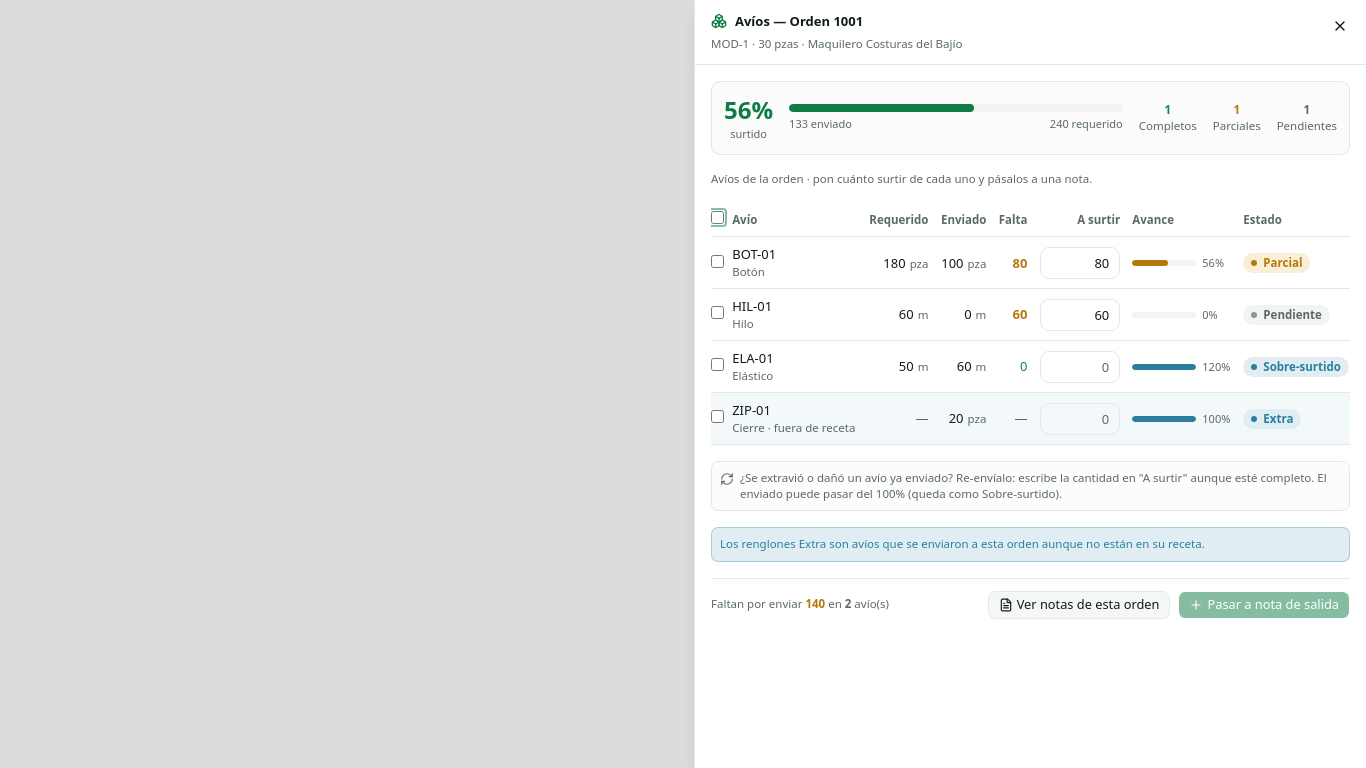
PanelHabilitacionOrden (R6, B13) › escribir una cantidad en "A surtir" auto-marca el renglón (re-envío)
The width and height of the screenshot is (1366, 768).
Check: the checkbox named "Surtir ELA-01" is not checked, box [711,358,724,371]
In the number field named "A surtir de ELA-01": (1080, 367) [1040,351,1120,383], type "10"
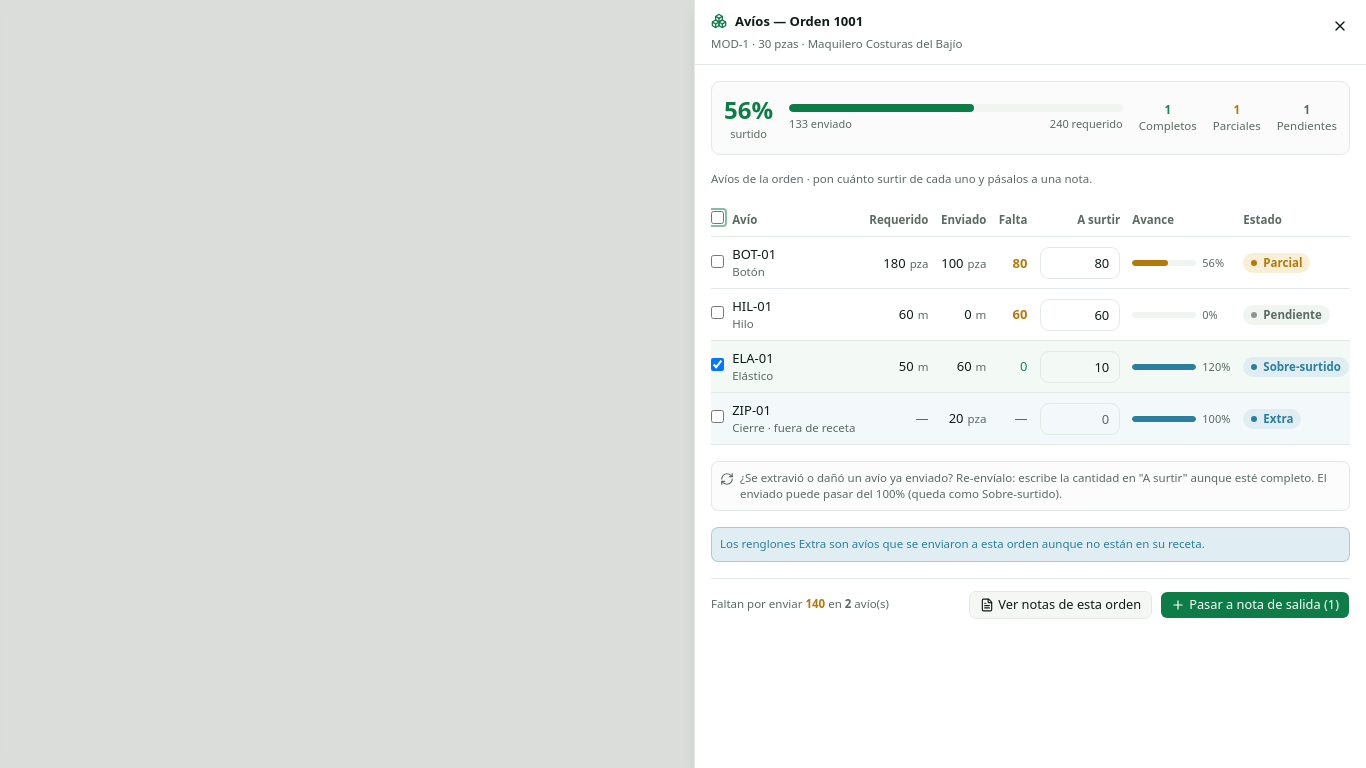
Check: the checkbox named "Surtir ELA-01" is checked, box [711,358,724,371]
Check: the button with test id "hab-pasar-nota" is enabled, box [1160,590,1350,618]
